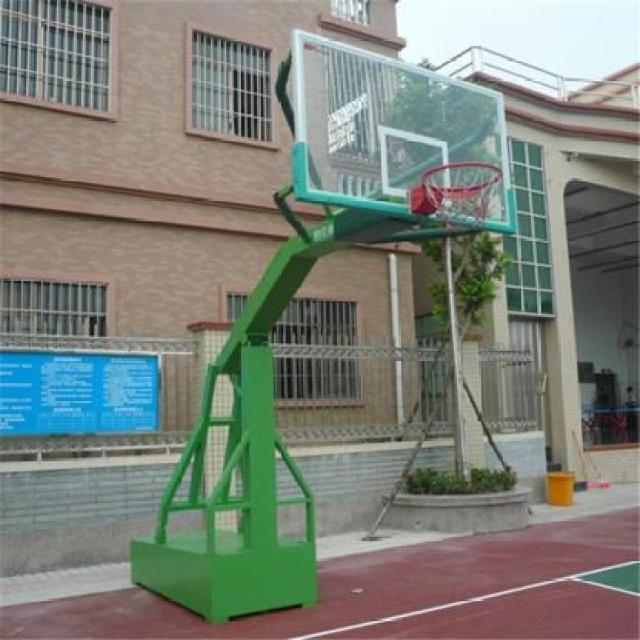rim: (428, 162, 504, 230)
